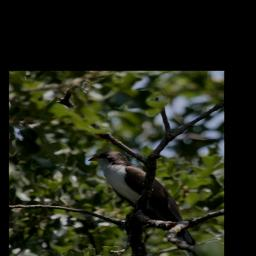Cuckoo: (87, 150, 210, 256)
